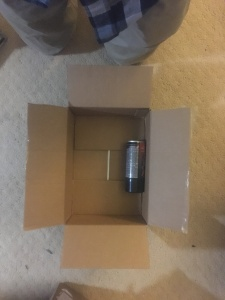innerbox: (69, 107, 149, 228)
outerbox: (29, 64, 189, 270)
product: (124, 138, 146, 193)
